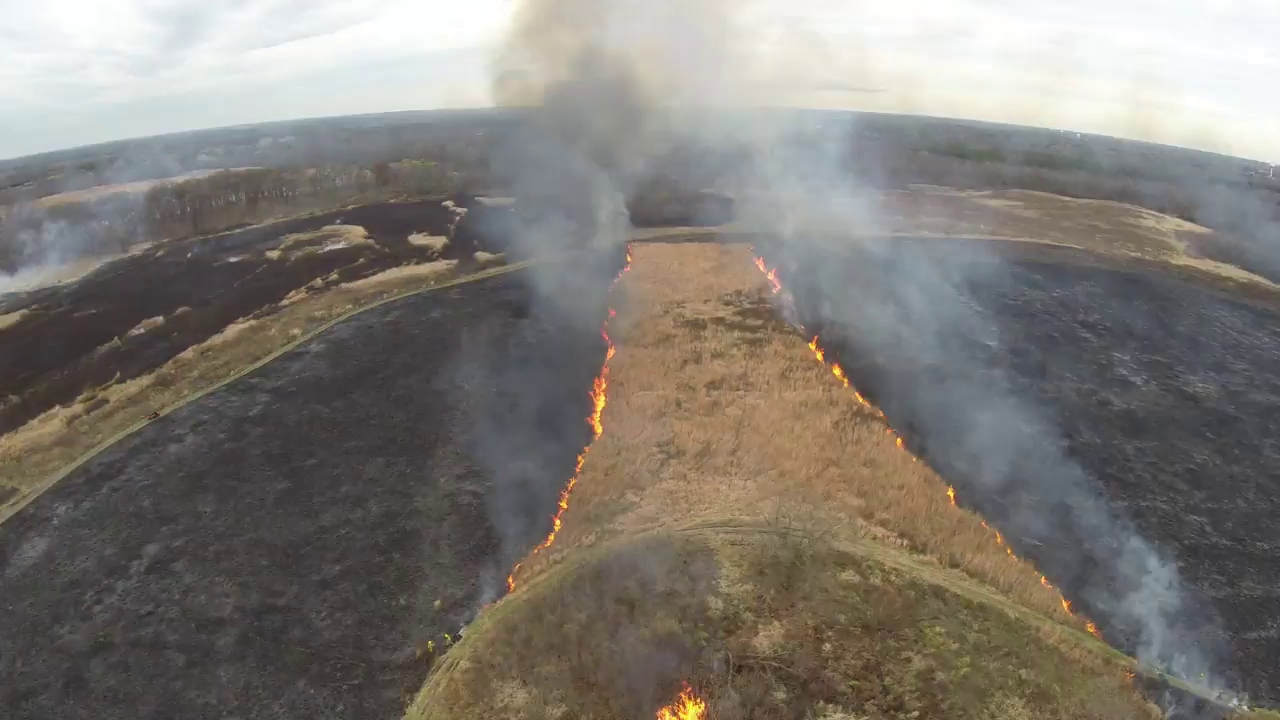forest_fire: (531, 309, 615, 555), (808, 335, 883, 418), (656, 682, 706, 719), (753, 256, 783, 293), (887, 427, 918, 461), (992, 530, 1017, 558), (506, 561, 523, 593), (1058, 593, 1073, 616)
